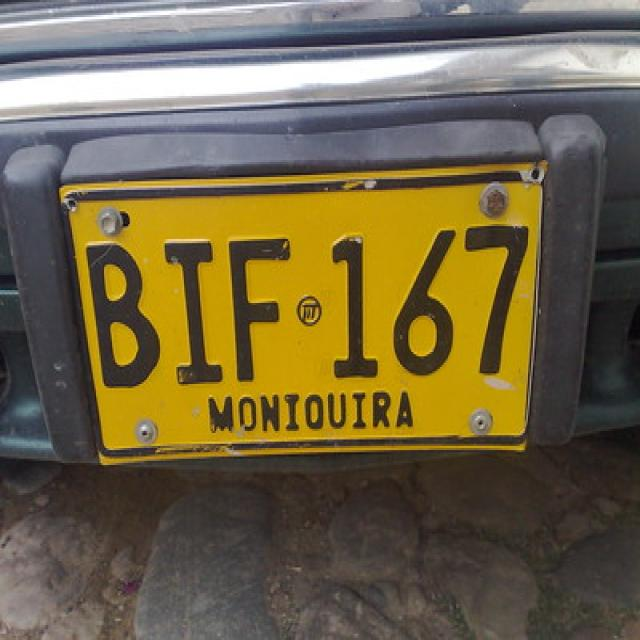placa_carro: (36, 137, 566, 488)
